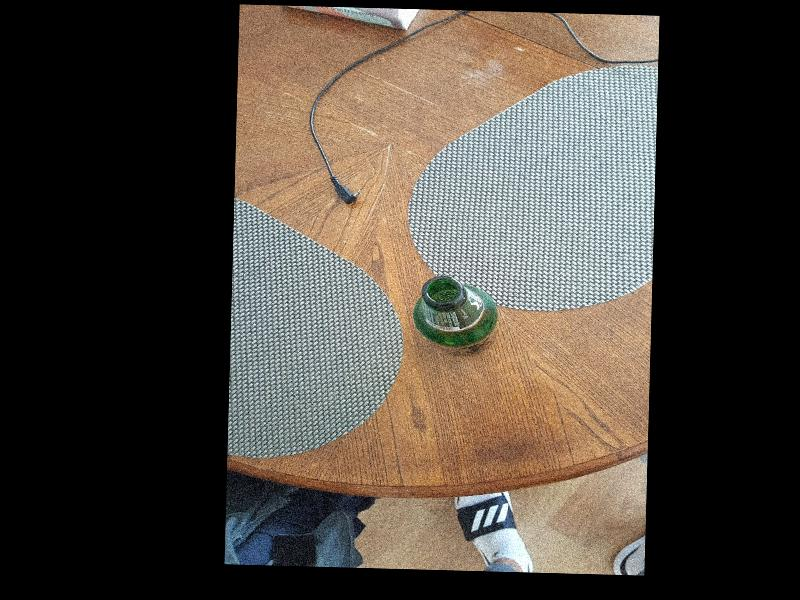Beer: (411, 275, 498, 356)
